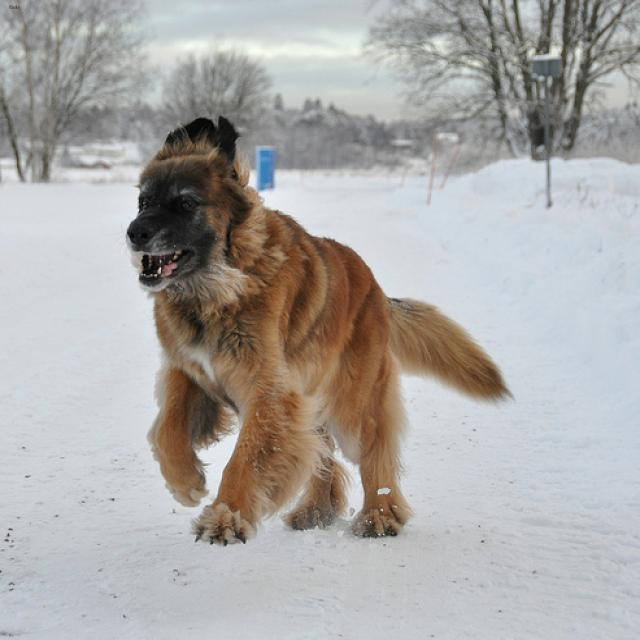dog-leonberger: (116, 110, 518, 562)
